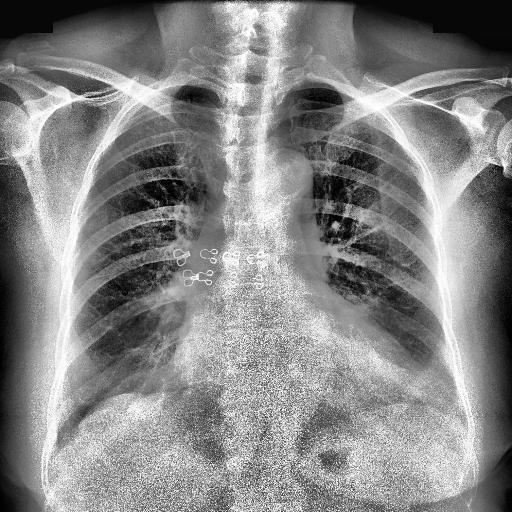0- Aortic enlargement: (254, 144, 312, 208), (260, 144, 312, 210), (254, 148, 314, 199)
3- Cardiomegaly: (168, 344, 432, 420), (168, 342, 426, 412), (173, 331, 425, 401)
